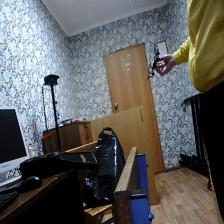drone: (145, 41, 163, 82)
